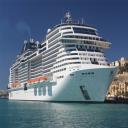cruises: (8, 11, 121, 106)
